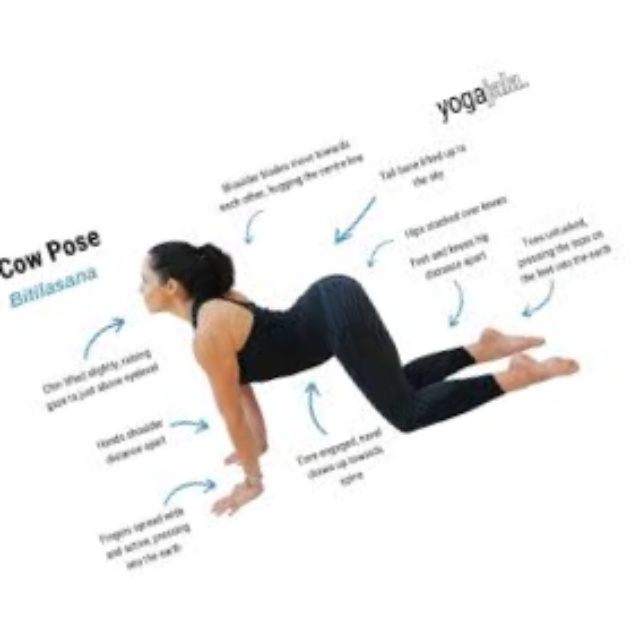Cow_Pose: (136, 239, 583, 519)
